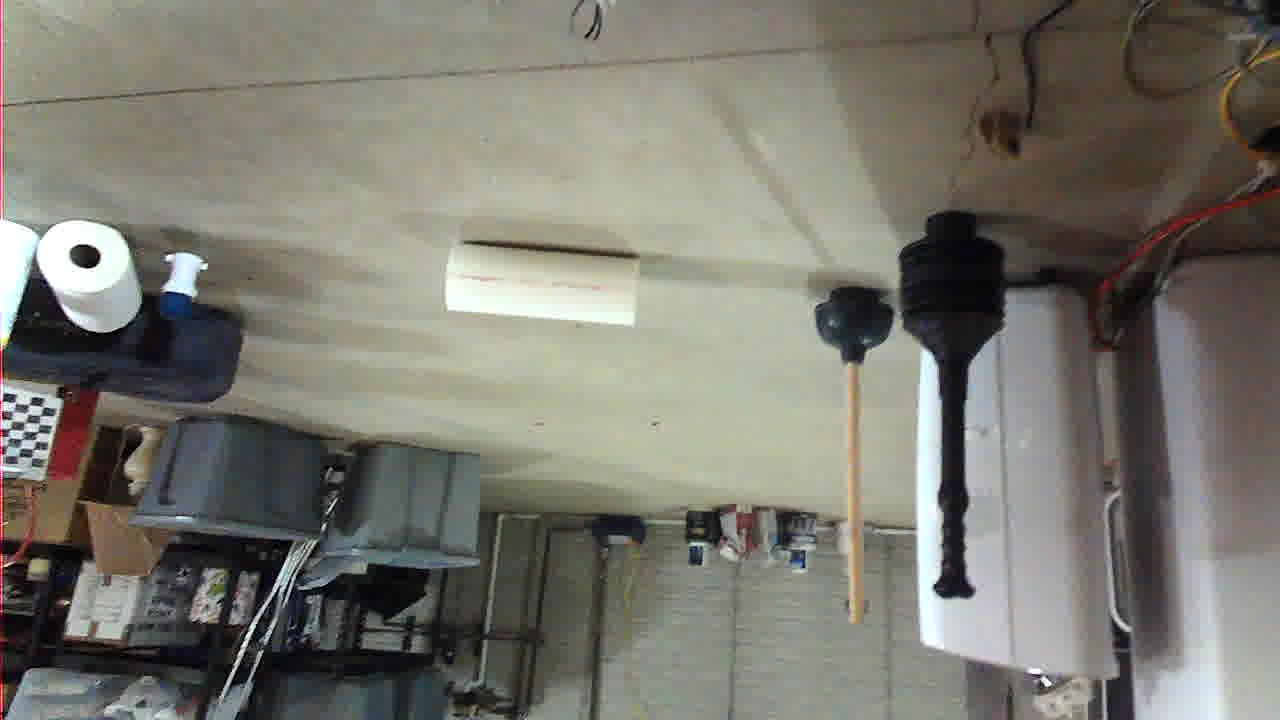coral: (643, 396, 834, 476)
